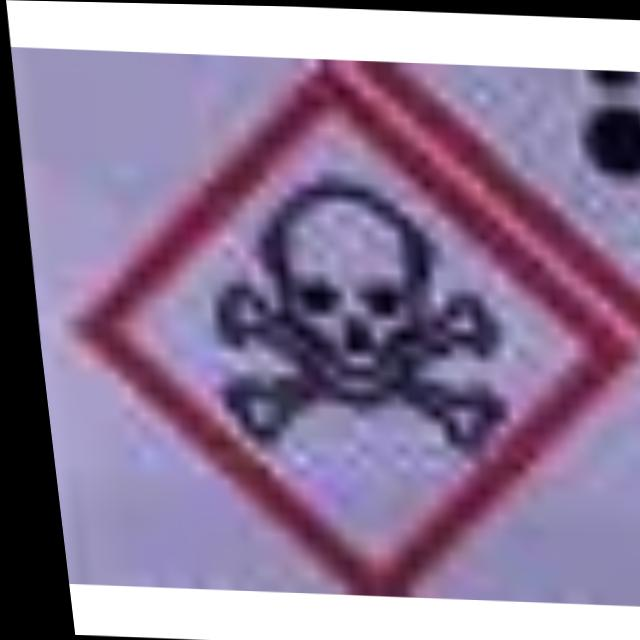acute toxicity: (26, 46, 635, 590)
